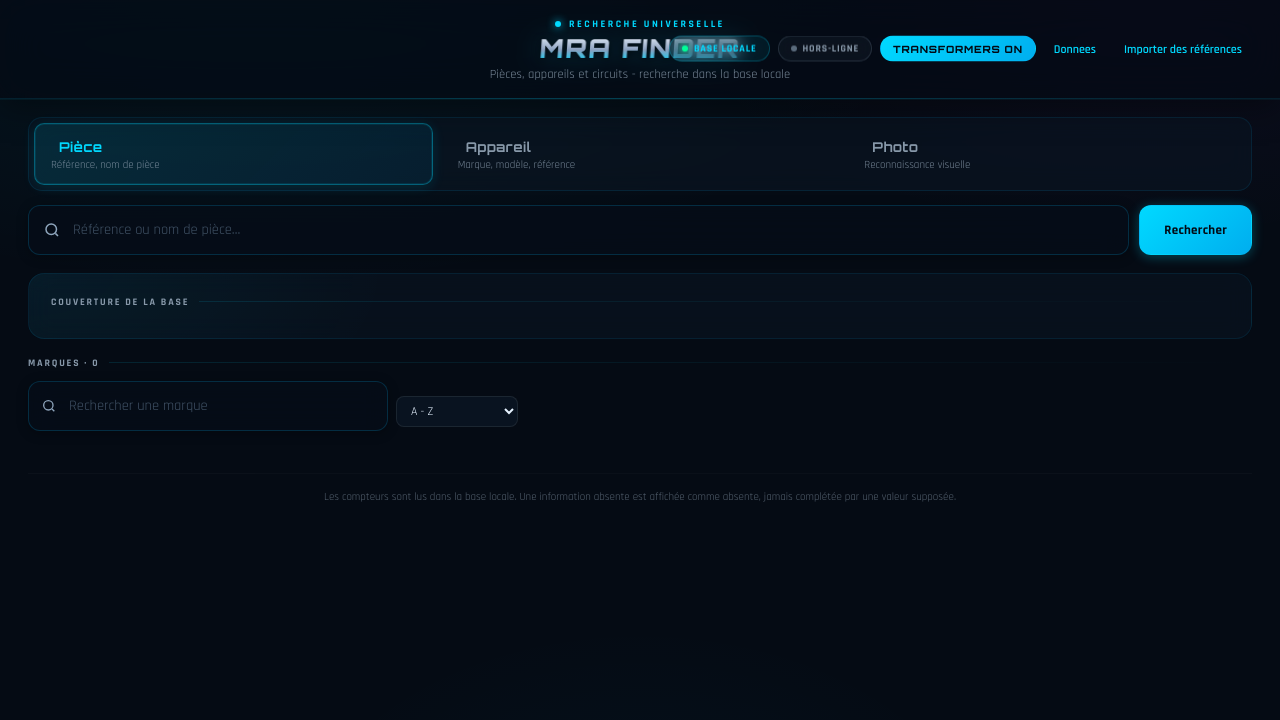
Test: MRA FINDER — écran › aucune pièce documentée : le message est dit et l’appareil reste accessible
The width and height of the screenshot is (1280, 720).
In the field with placeholder "Référence ou nom de pièce…": (579, 230) x1=28 y1=205 x2=1129 y2=255, type "SM-A125F"
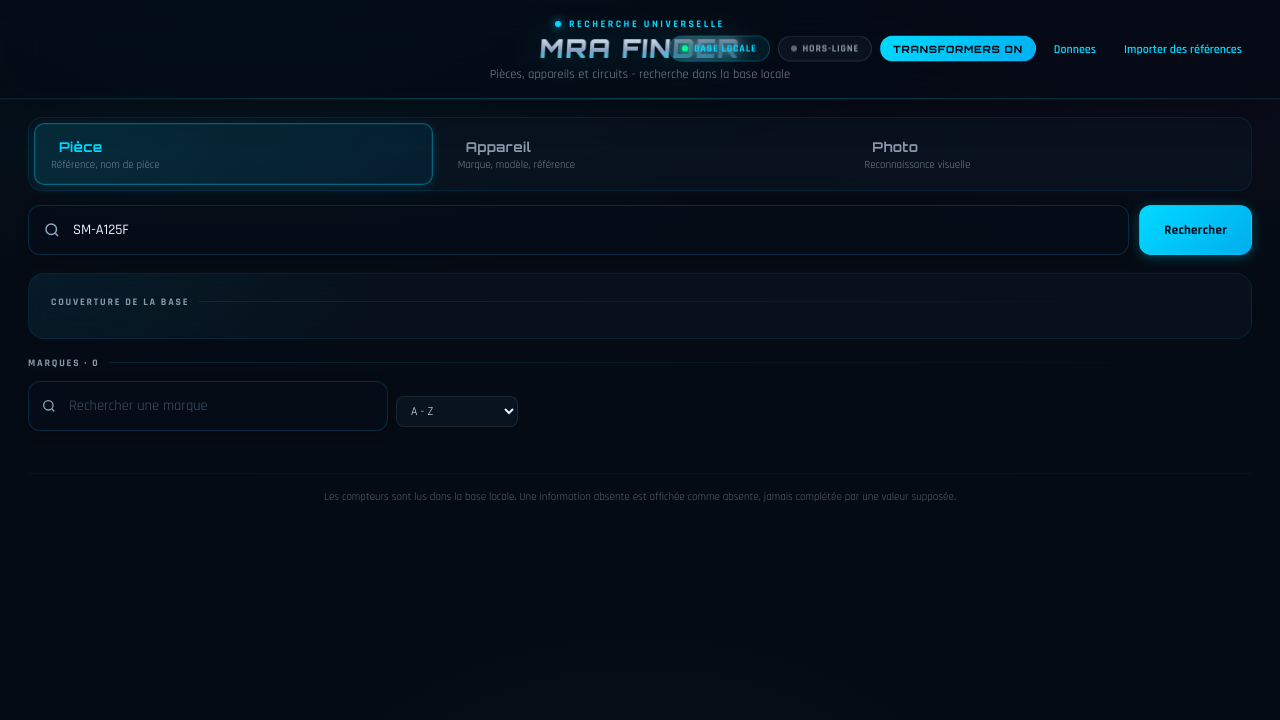
Click the button "Rechercher": (1196, 230) x1=1139 y1=205 x2=1252 y2=255
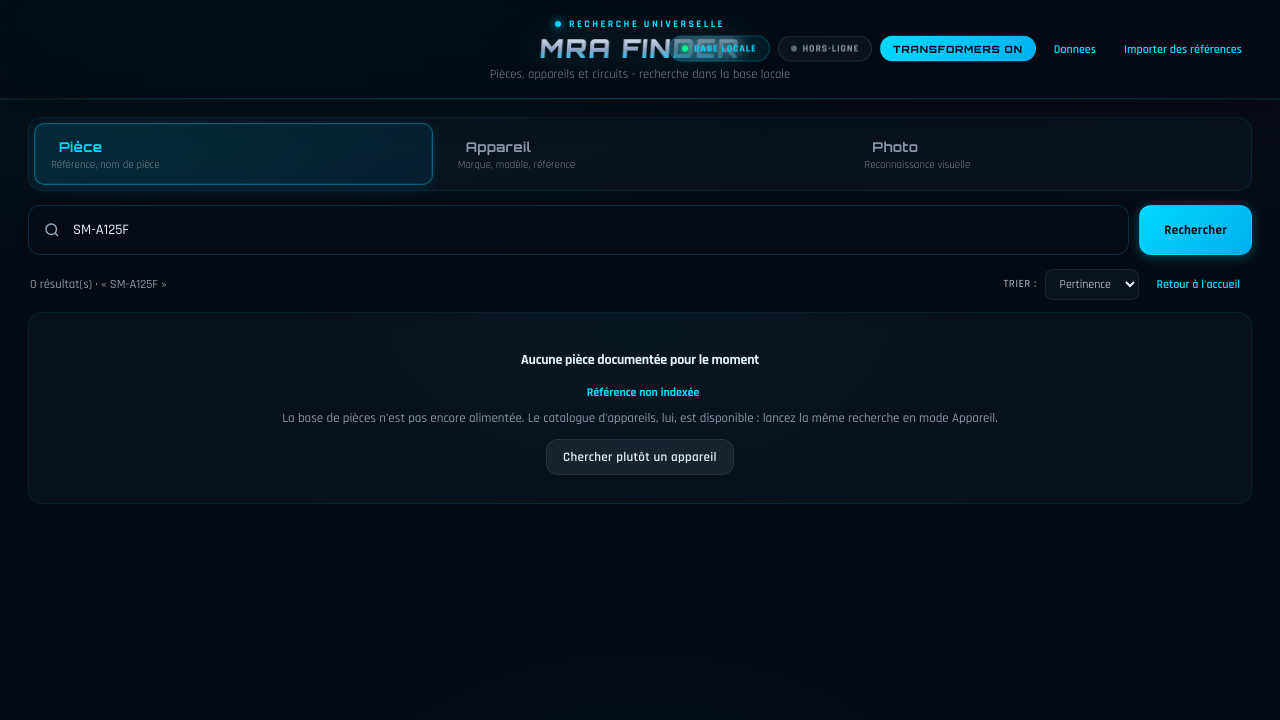
Check: the text "Aucune pièce documentée pour le moment" is shown, box x1=521 y1=351 x2=759 y2=369
Check: the button "Chercher plutôt un appareil" is shown, box x1=546 y1=439 x2=734 y2=475
